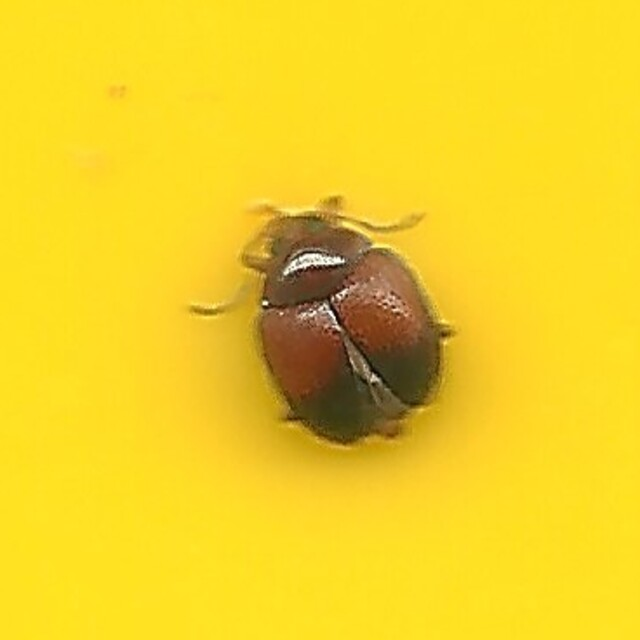Coleoptera: (174, 185, 466, 455)
